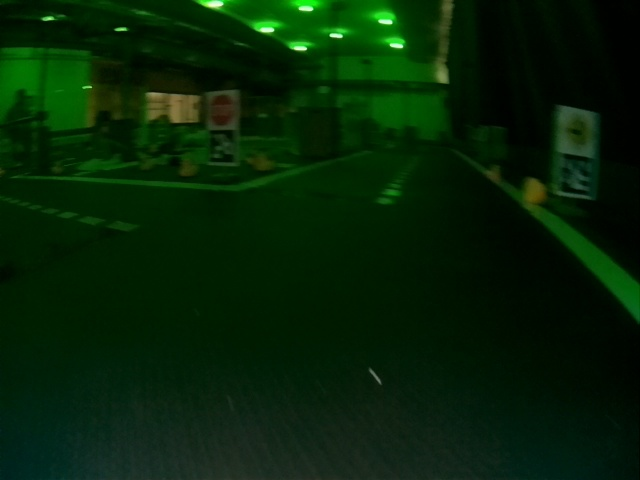Duckie: (523, 178, 545, 203), (177, 157, 198, 176), (254, 154, 271, 170)
Intersection sign: (558, 110, 595, 152)
QR code: (555, 156, 592, 198), (206, 132, 237, 164)
Stop sign: (206, 93, 237, 127)
